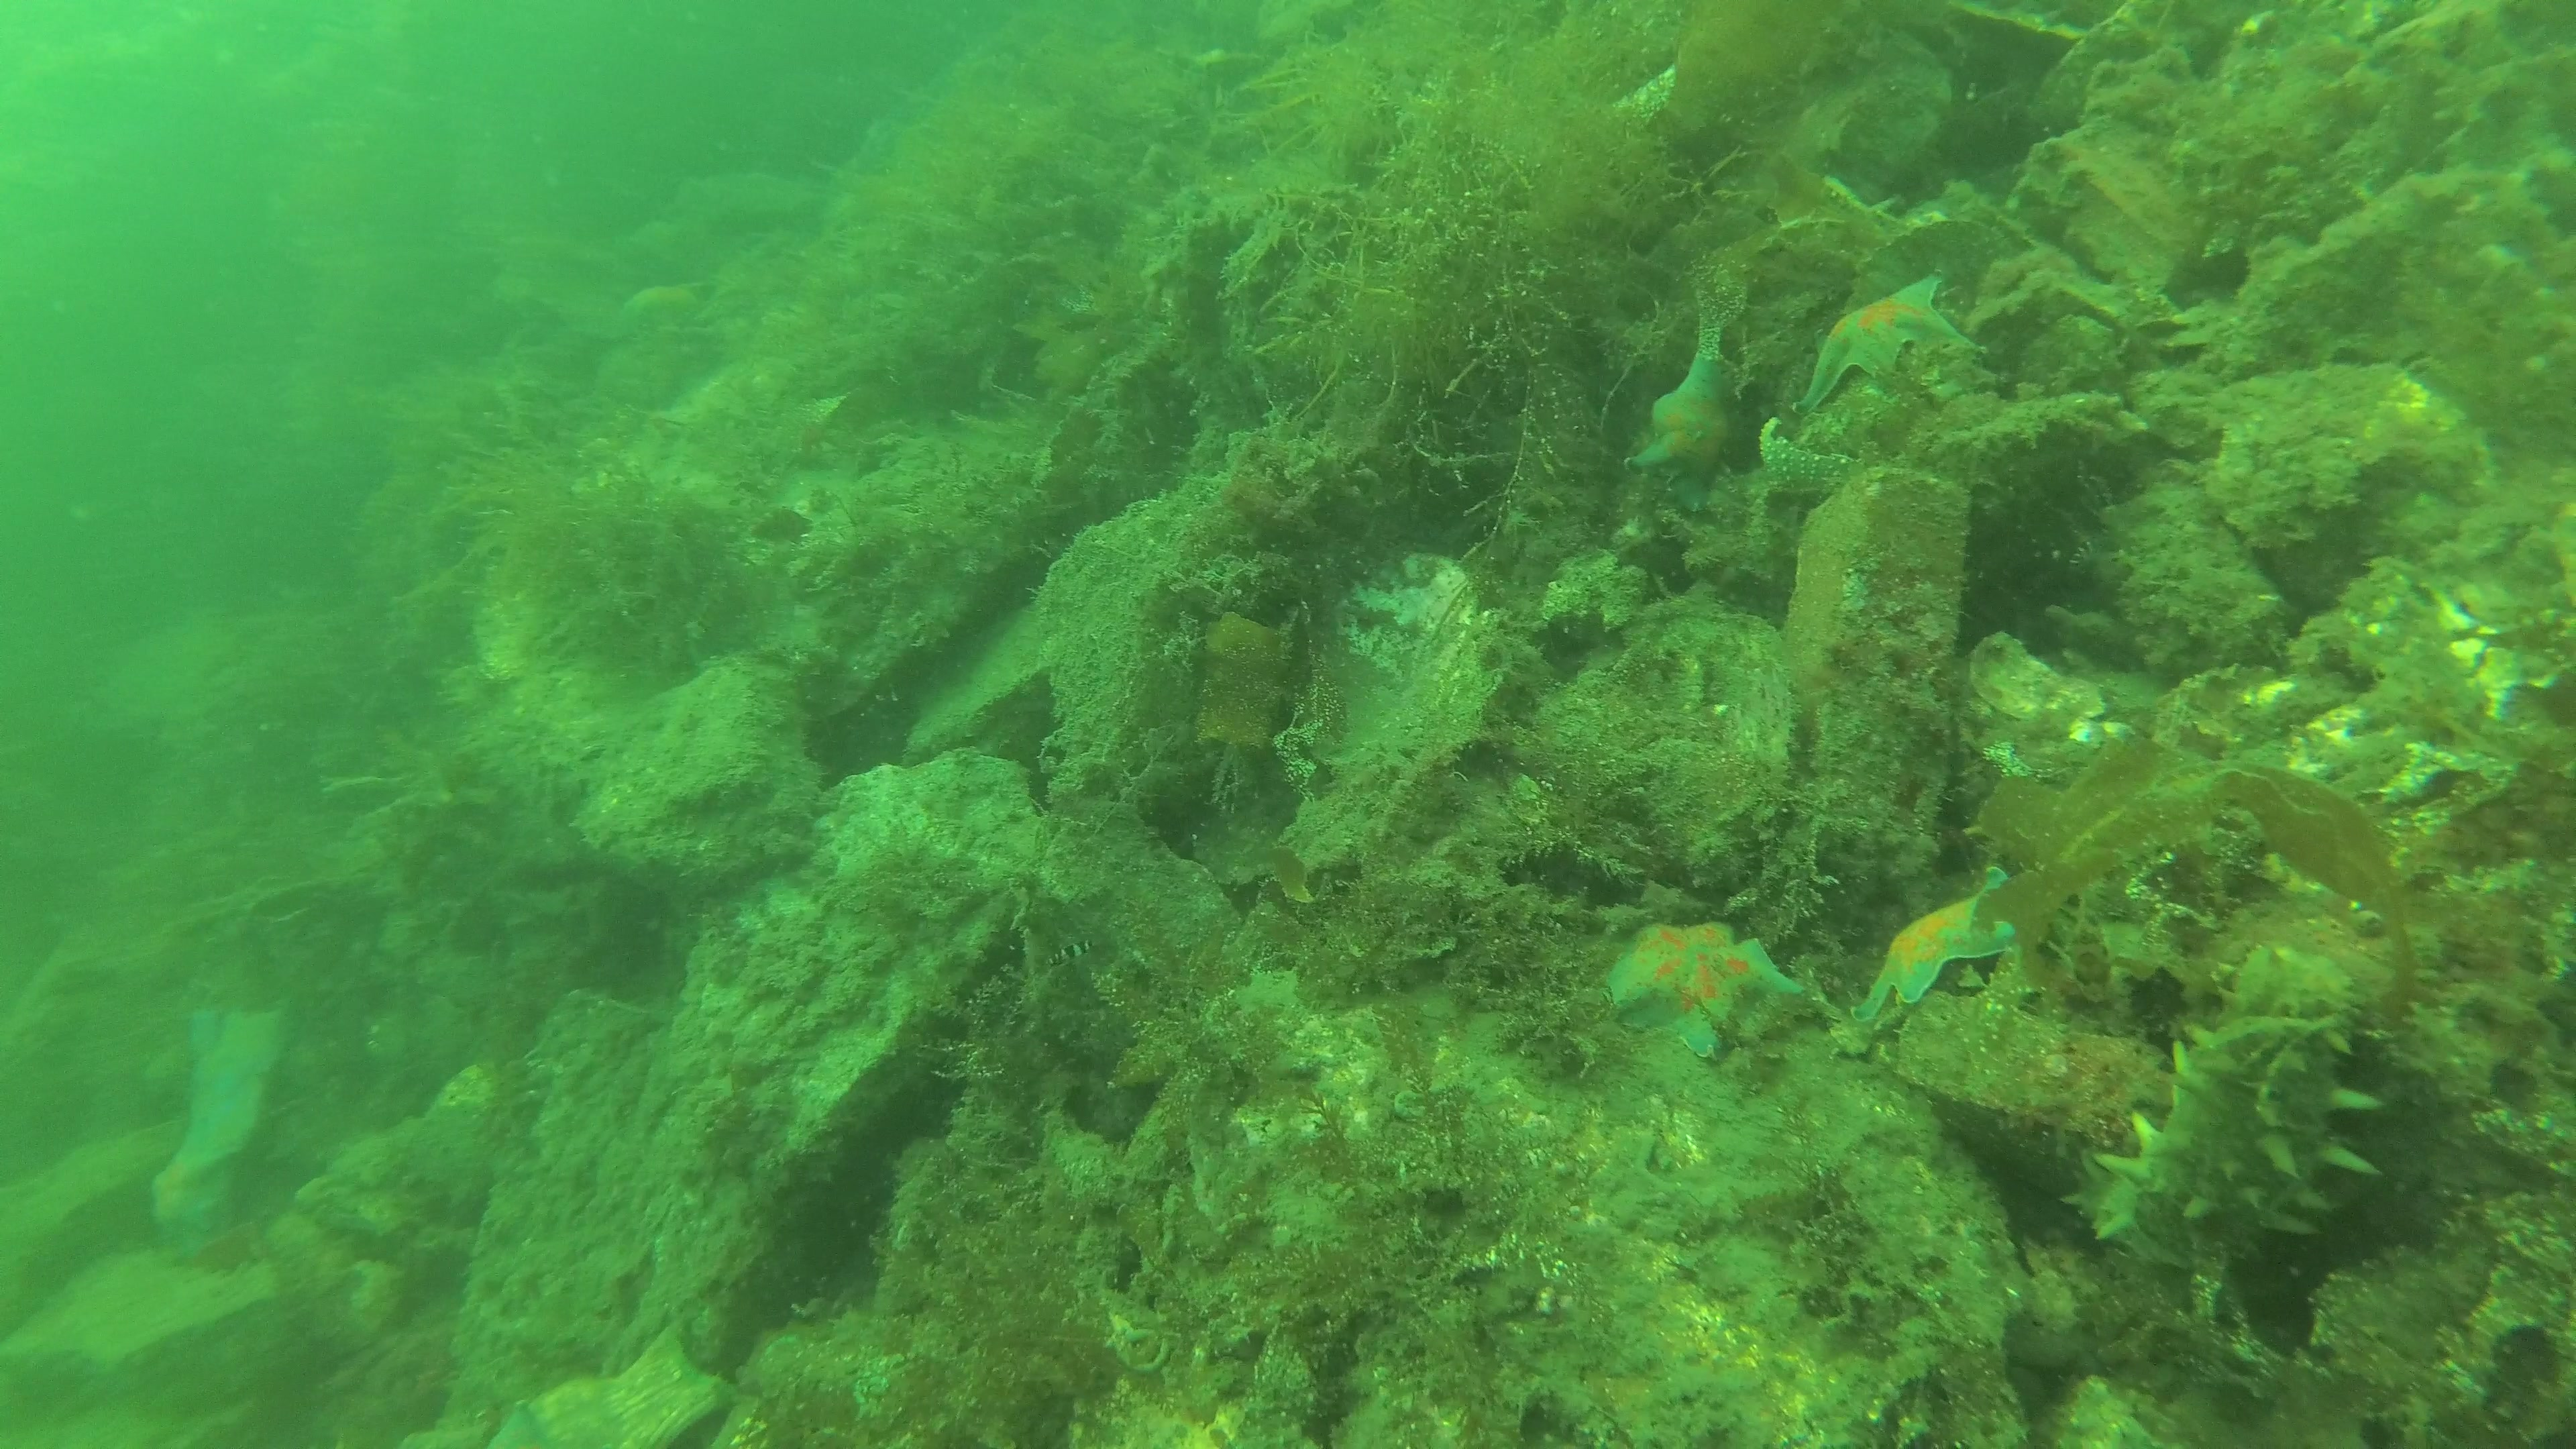holothurian: (2058, 943, 2401, 1279)
starfish: (1583, 911, 1813, 1069), (1854, 860, 2042, 1023), (1792, 267, 1987, 421), (1621, 322, 1752, 520)
